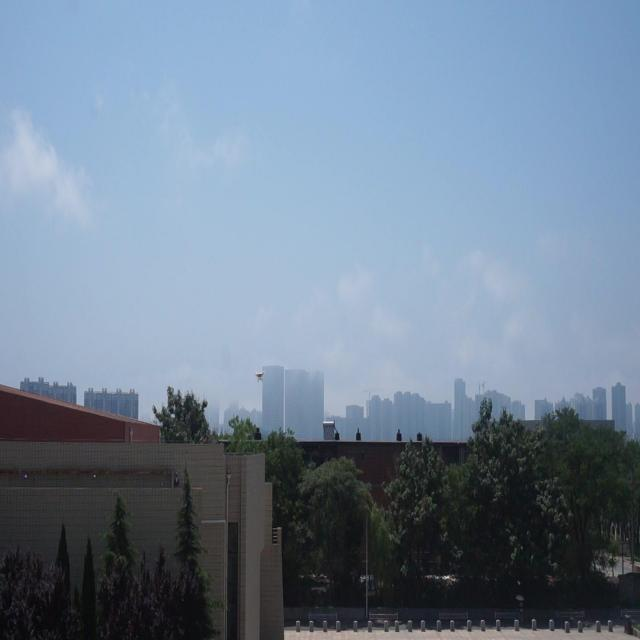UAV: (254, 371, 266, 382)
